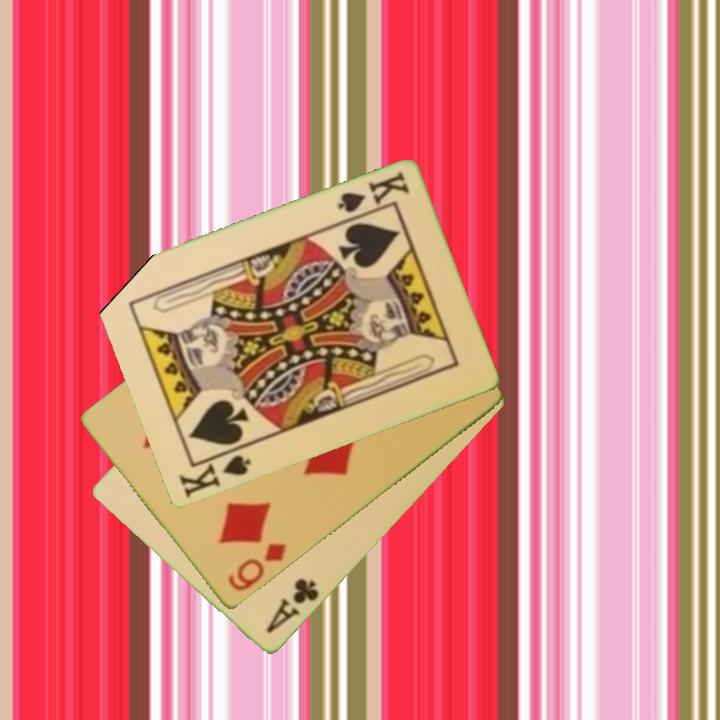6d: (224, 540, 290, 595)
Ac: (262, 575, 323, 637)
Ks: (175, 443, 254, 501), (334, 168, 412, 217)
